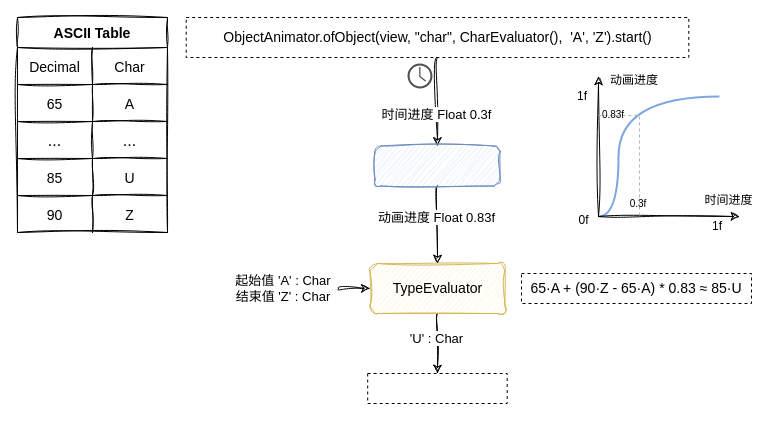
Some shapes in this 775 by 421 pixel diagram are drawn without their labels. Here are the shapes that lost their labels. From the top down, the centre of each, then its label:
point (437, 165): interpolator
point (437, 388): view.setChar('U')
